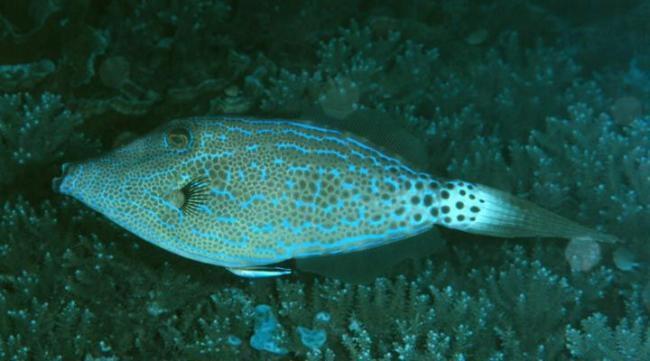fish: (53, 114, 624, 266)
